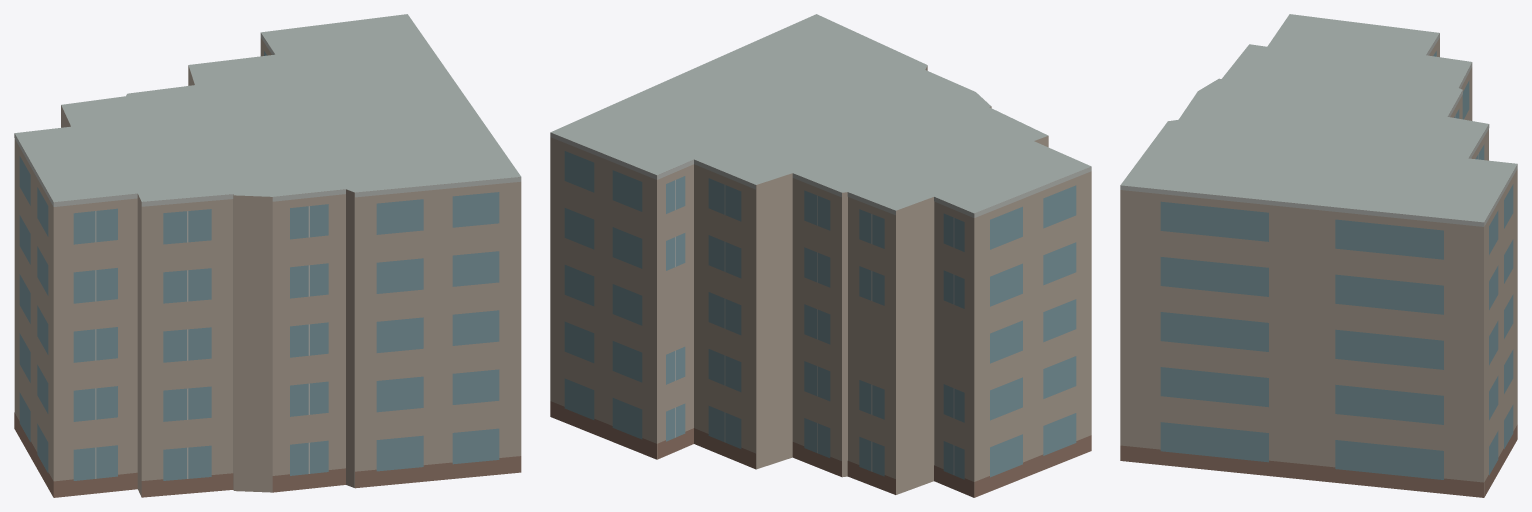
Rendered from survey-upis-32780184.glb.
3 views of the same model, side by side, from view 1: azimuth 30°, elevation 25°; view 2: azimuth 150°, elevation 25°; view 3: azimuth 270°, elevation 25° (orthographic). The views are drawn at different scales.
Parts seen in each view (by area): view 1: survey-upis-32780184.tmp; view 2: survey-upis-32780184.tmp; view 3: survey-upis-32780184.tmp.
Boxes of the visible parts, <box> form: survey-upis-32780184.tmp: <box>14,14,521,497</box>; survey-upis-32780184.tmp: <box>550,14,1091,497</box>; survey-upis-32780184.tmp: <box>1120,14,1517,497</box>.
Size of the model in its own units: 23.86 by 14.7 by 19.23.
